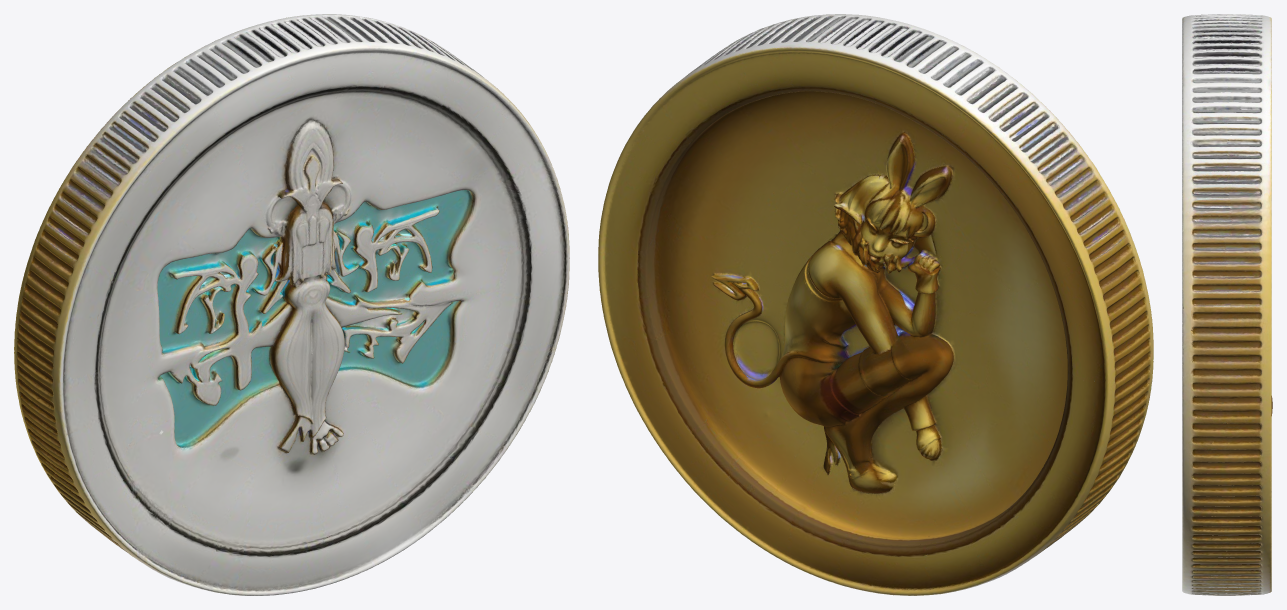
The model's file is coin.glb.
3 views of the same model, side by side, from view 1: azimuth 30°, elevation 25°; view 2: azimuth 150°, elevation 25°; view 3: azimuth 270°, elevation 25° (orthographic). The views are drawn at different scales.
Parts seen in each view (by area): view 1: Meshy_AI_Golden_Hare_Coin_0303130106_texture; view 2: Meshy_AI_Golden_Hare_Coin_0303130106_texture; view 3: Meshy_AI_Golden_Hare_Coin_0303130106_texture.
Part boxes in pixels (box(x1,y1,x2,y2)): Meshy_AI_Golden_Hare_Coin_0303130106_texture: box(14, 14, 569, 595); Meshy_AI_Golden_Hare_Coin_0303130106_texture: box(598, 14, 1153, 595); Meshy_AI_Golden_Hare_Coin_0303130106_texture: box(1182, 14, 1272, 595).
Bounding box in the file's own units: 1.9 × 1.9 × 0.2941.
1 material, 1 textured.
